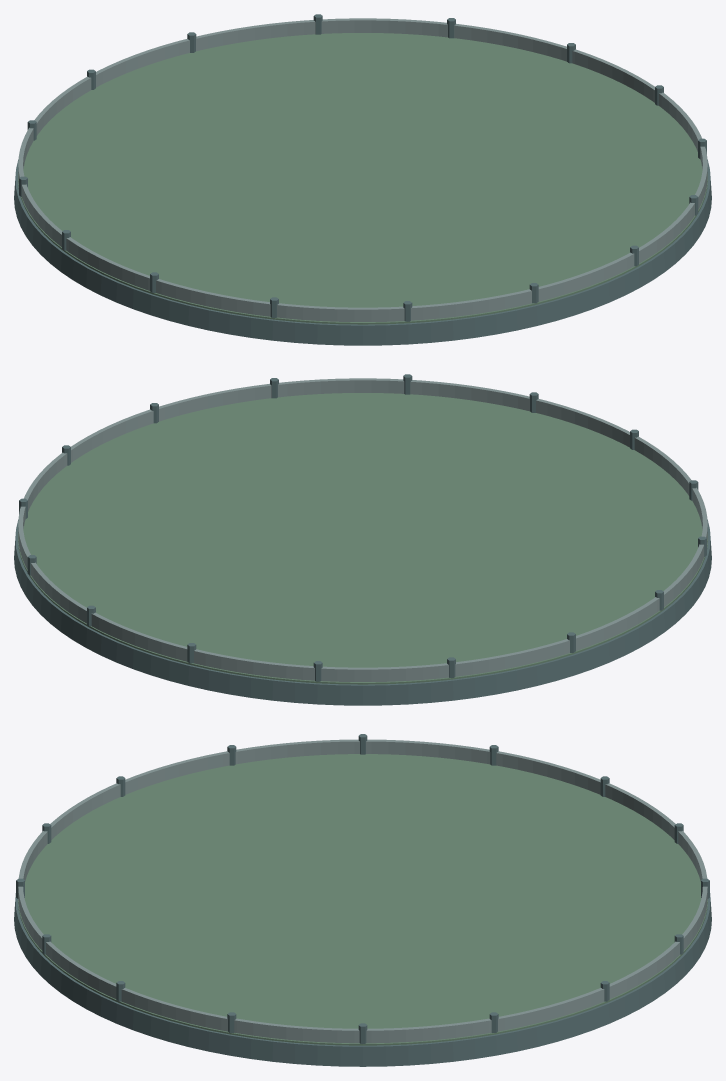
The model's file is SM_R02A_Outer_Precinct.fbx.
3 views of the same model, one above another, from view 1: azimuth 30°, elevation 25°; view 2: azimuth 150°, elevation 25°; view 3: azimuth 270°, elevation 25° (orthographic).
Parts seen in each view (by area): view 1: SM_R02A_Outer_Precinct; view 2: SM_R02A_Outer_Precinct; view 3: SM_R02A_Outer_Precinct.
Part boxes in pixels (x1,y1,x2,y2): SM_R02A_Outer_Precinct: (14,14,711,345); SM_R02A_Outer_Precinct: (14,374,711,705); SM_R02A_Outer_Precinct: (14,734,711,1066).
Size of the model in its own units: 8090 by 8090 by 498.
